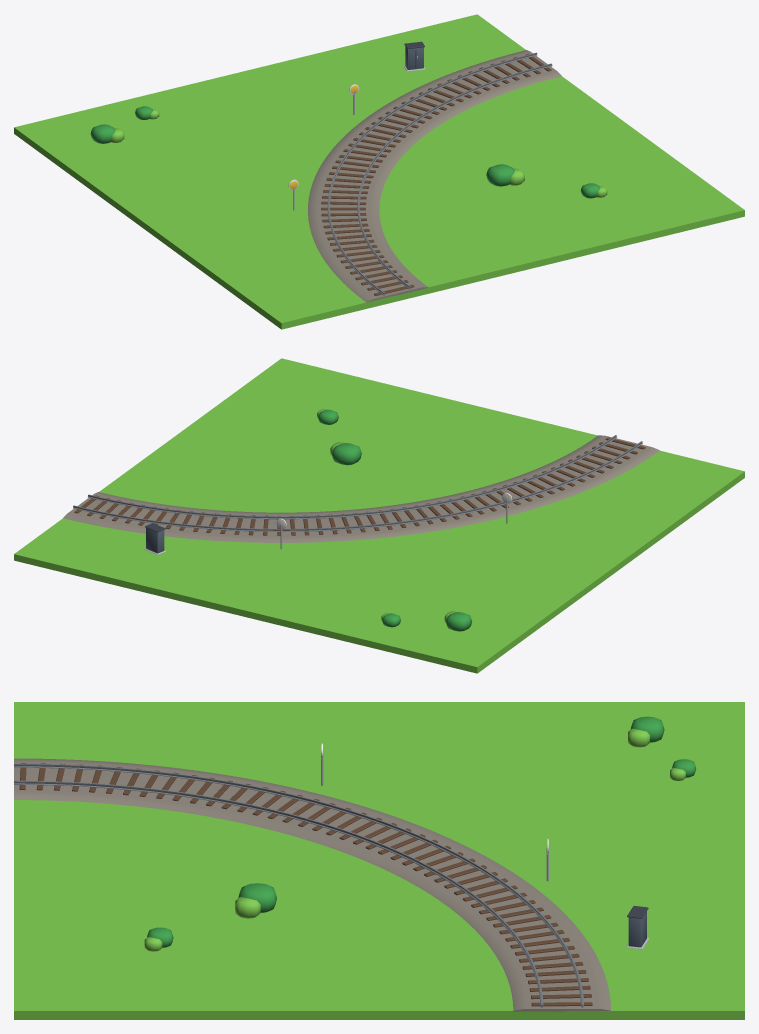
File: trilho_curva.glb
The picture shows the model from 3 angles, top to bottom: view 1: azimuth 30°, elevation 25°; view 2: azimuth 150°, elevation 25°; view 3: azimuth 270°, elevation 25°; orthographic projection. The views are drawn at different scales.
Parts seen in each view (by area): view 1: trilho_curva; view 2: trilho_curva; view 3: trilho_curva.
Boxes of the visible parts, x1,y1,x2,y2 form: trilho_curva: [14, 14, 744, 329]; trilho_curva: [14, 358, 744, 673]; trilho_curva: [14, 702, 744, 1019].
Size of the model in its own units: 30 by 2.27 by 30.
1 material, 1 textured.
